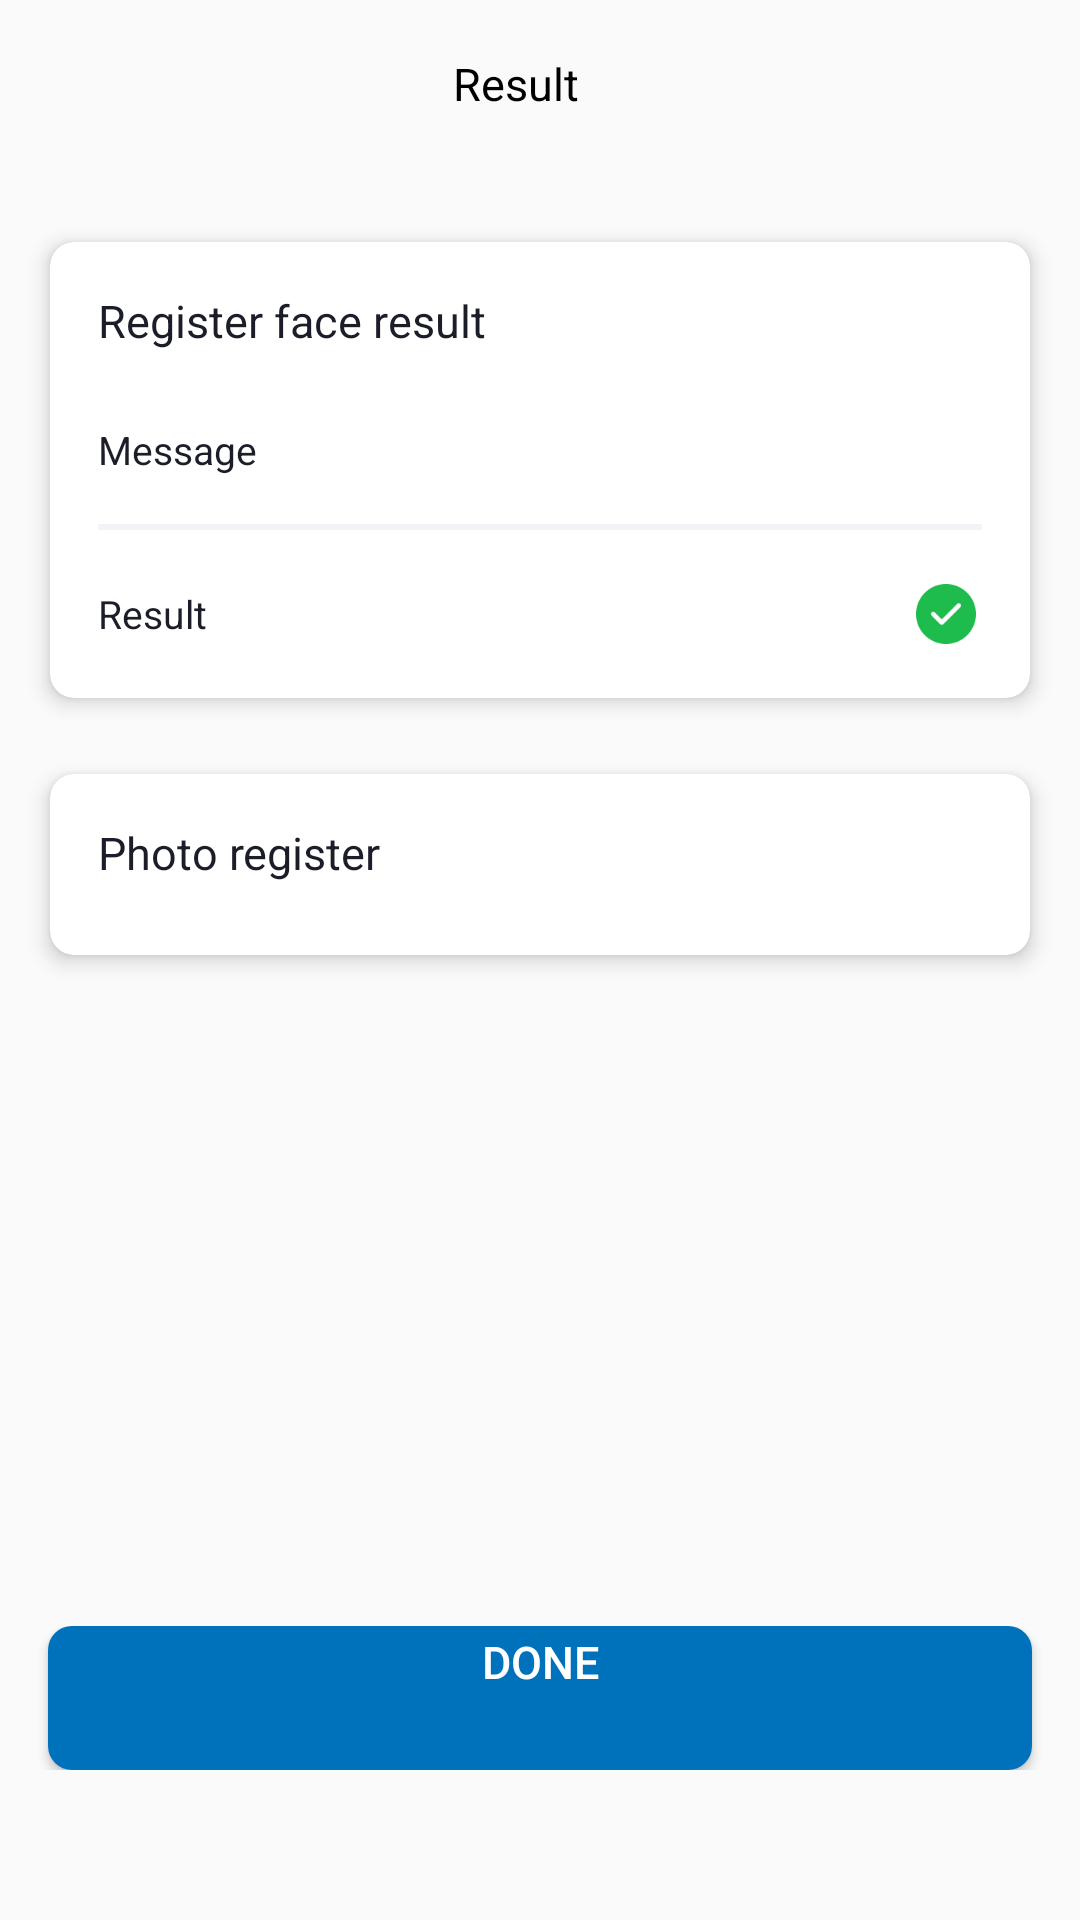

Named icons in this screenshot (1080*1920) and their bounding boxes, box=[x1, y1, x2, y2]:
step done: box=[916, 584, 976, 644]
